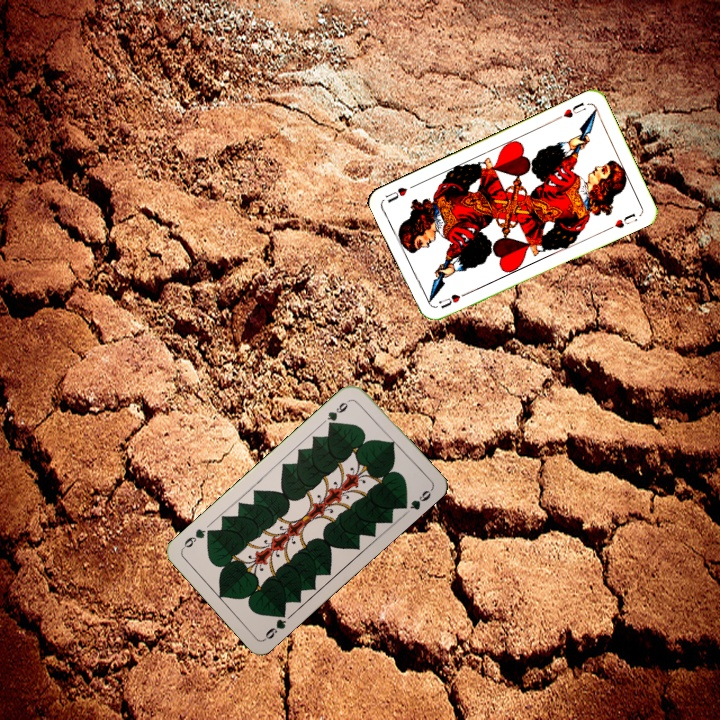G9: (319, 395, 353, 430), (261, 606, 289, 643)
HU: (553, 98, 588, 123), (434, 290, 463, 311)
